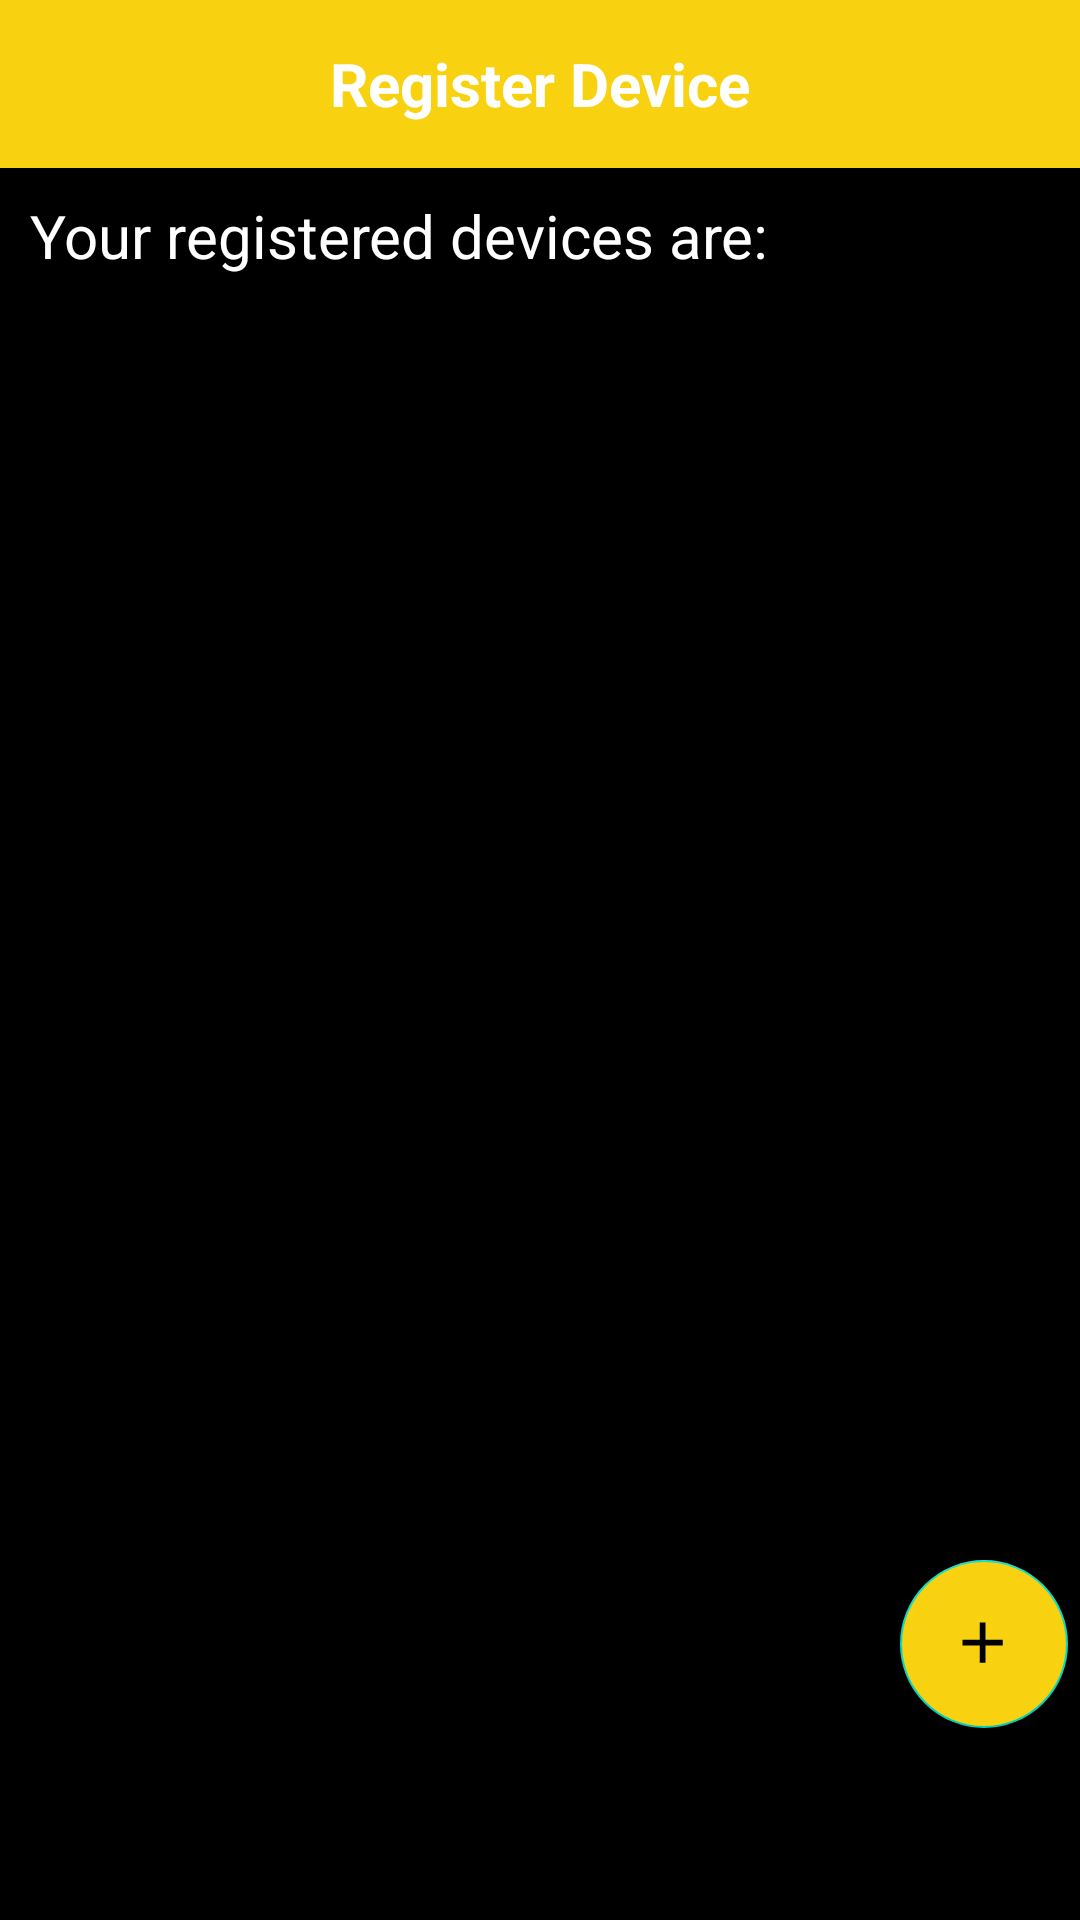

Icon click points for this 1080 × 1920 phone screenshot, format [x,y]:
add: [984,1644]
